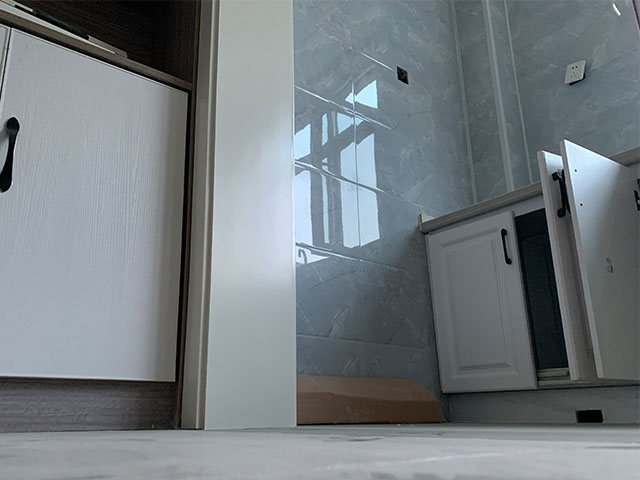cabinet: (1, 1, 195, 433), (418, 139, 640, 427)
